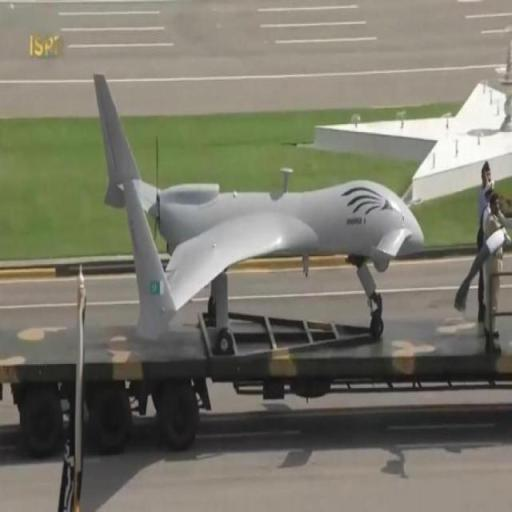uav: (86, 66, 424, 347)
